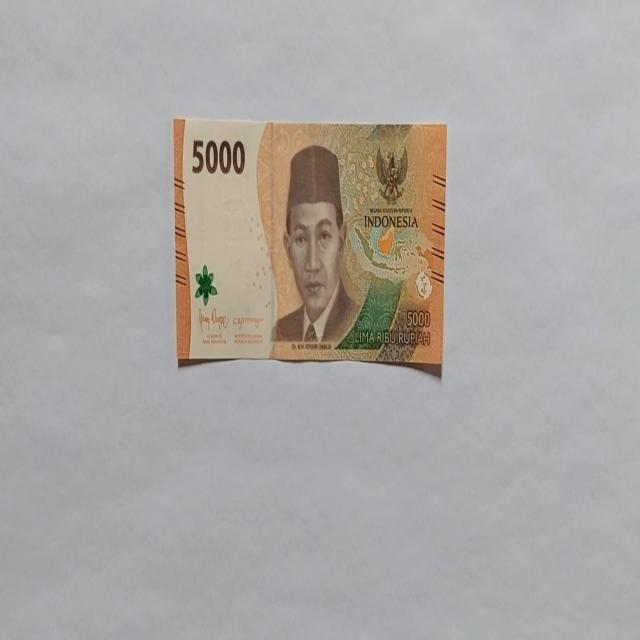lima ribu rupiah: (174, 116, 446, 376), (270, 143, 360, 349)
